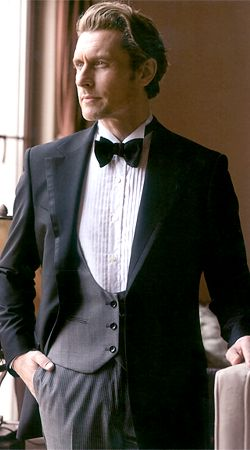bow: (88, 133, 148, 172)
